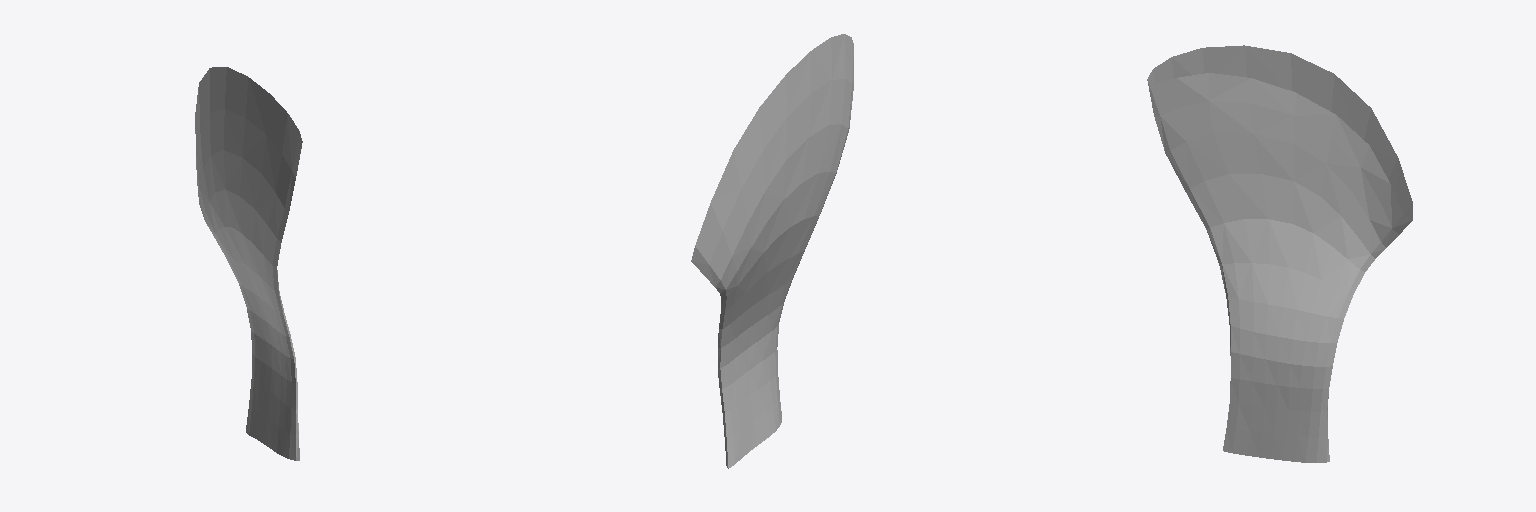
File: superior_auricular_right.obj
3 renders of one model, left to right at view 1: azimuth 30°, elevation 25°; view 2: azimuth 150°, elevation 25°; view 3: azimuth 270°, elevation 25°, orthographic.
Visible parts, largest first — view 1: Superior_Auricular_Muscle_Right; view 2: Superior_Auricular_Muscle_Right; view 3: Superior_Auricular_Muscle_Right.
Boxes of the visible parts, box(x1,y1,x2,y2) form: Superior_Auricular_Muscle_Right: box(195, 67, 302, 460); Superior_Auricular_Muscle_Right: box(691, 34, 853, 468); Superior_Auricular_Muscle_Right: box(1147, 45, 1412, 462).
Size of the model in its own units: 0.0792 by 0.5419 by 0.329.